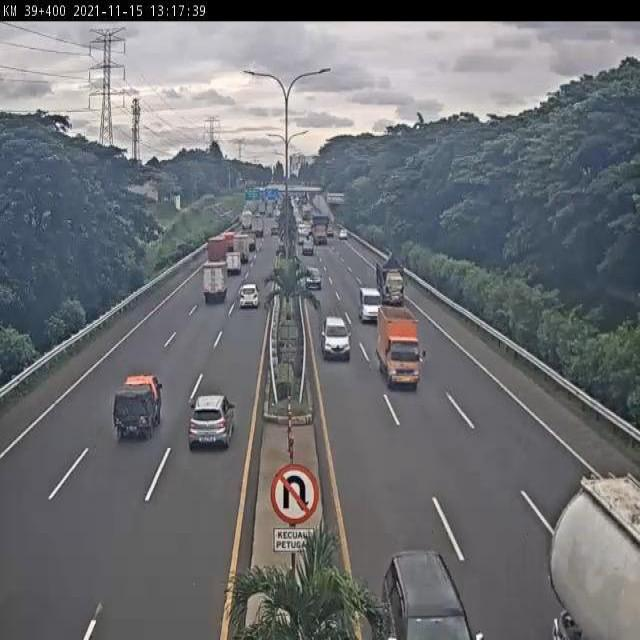car: (187, 392, 234, 452), (320, 313, 354, 363), (357, 284, 385, 325), (237, 279, 261, 312), (302, 264, 325, 293)
truck-m-: (201, 261, 228, 303)
truck-s-: (378, 307, 424, 393), (110, 371, 164, 440), (373, 253, 409, 307), (225, 249, 243, 276)
